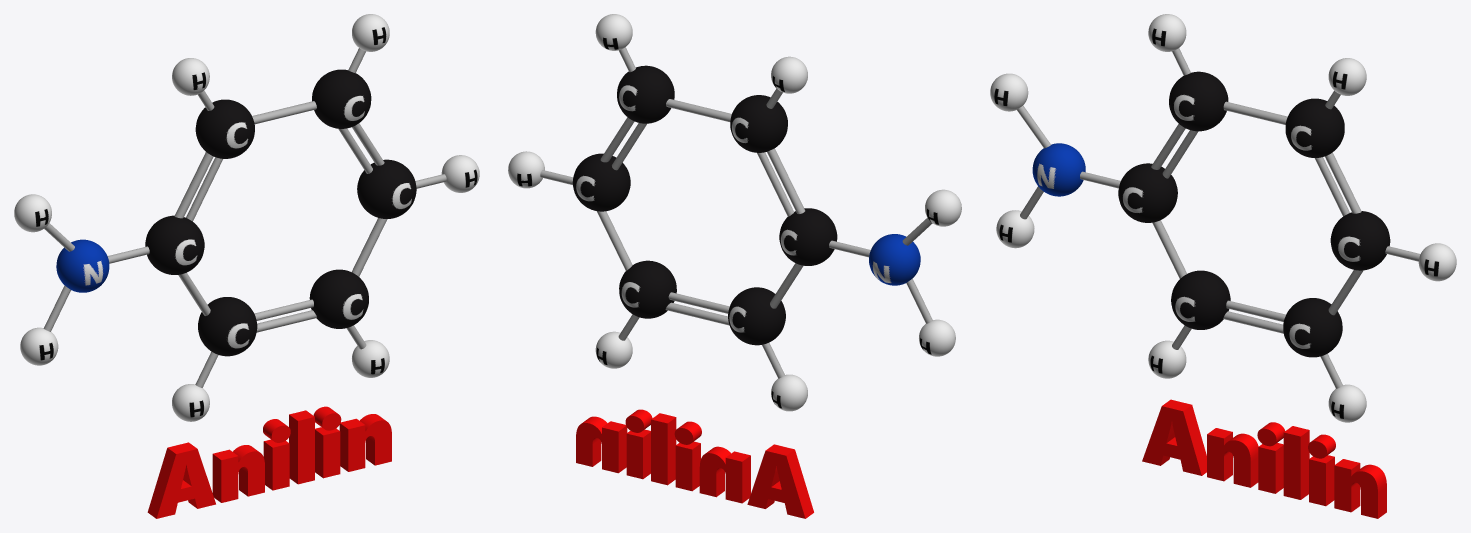
Rendered from anilin.gltf.
The picture shows the model from 3 angles, left to right: view 1: azimuth 30°, elevation 25°; view 2: azimuth 150°, elevation 25°; view 3: azimuth 330°, elevation 25°; orthographic projection. The views are drawn at different scales.
Visible parts, largest first — view 1: polySurface20_fracturepart (×6), Extrude, polySurface179_fracturepart (×7), polySurface181, polySurface15; view 2: polySurface20_fracturepart (×6), Extrude, polySurface179_fracturepart (×7), polySurface181, polySurface15; view 3: polySurface20_fracturepart (×6), Extrude, polySurface179_fracturepart (×7), polySurface181, polySurface15.
Boxes of the visible parts, <box> form: polySurface20_fracturepart (×6): <box>145,69,416,356</box>; Extrude: <box>147,406,391,518</box>; polySurface179_fracturepart (×7): <box>14,14,479,421</box>; polySurface181: <box>43,48,446,387</box>; polySurface15: <box>56,239,109,292</box>; polySurface20_fracturepart (×6): <box>572,65,837,345</box>; Extrude: <box>576,409,813,518</box>; polySurface179_fracturepart (×7): <box>508,14,961,411</box>; polySurface181: <box>540,47,932,378</box>; polySurface15: <box>869,234,920,285</box>; polySurface20_fracturepart (×6): <box>1118,71,1390,357</box>; Extrude: <box>1142,399,1386,518</box>; polySurface179_fracturepart (×7): <box>990,14,1456,422</box>; polySurface181: <box>1017,48,1420,388</box>; polySurface15: <box>1032,143,1085,196</box>.
Bounding box in the file's own units: 7 × 6.62 × 0.7888.
Materials: 5 (3 with a texture image).
